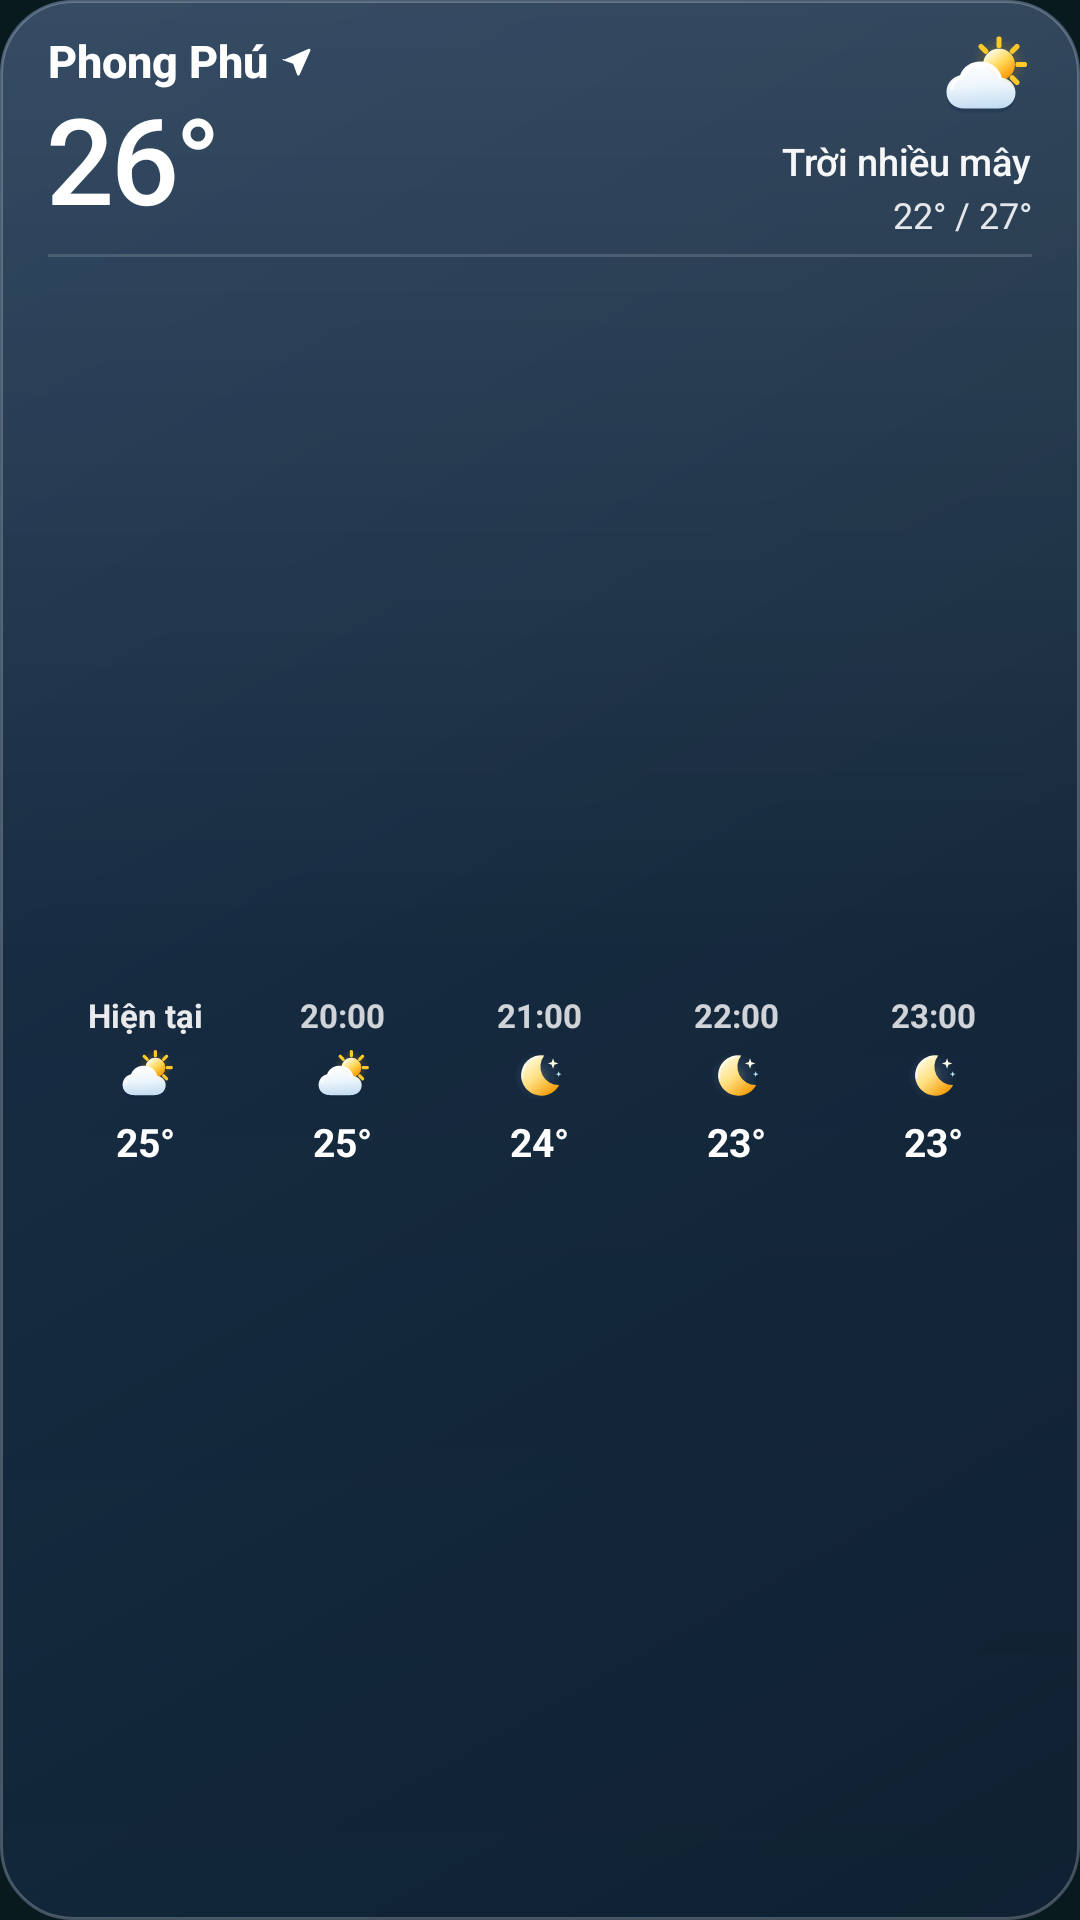

Icon bounding boxes for this 1080*1920 phone screenshot, format (x1, y1, x2, y2):
arrow current location: (282, 48, 311, 76)
weather clear night: (521, 1055, 561, 1096), (718, 1055, 759, 1096), (915, 1055, 955, 1096)
